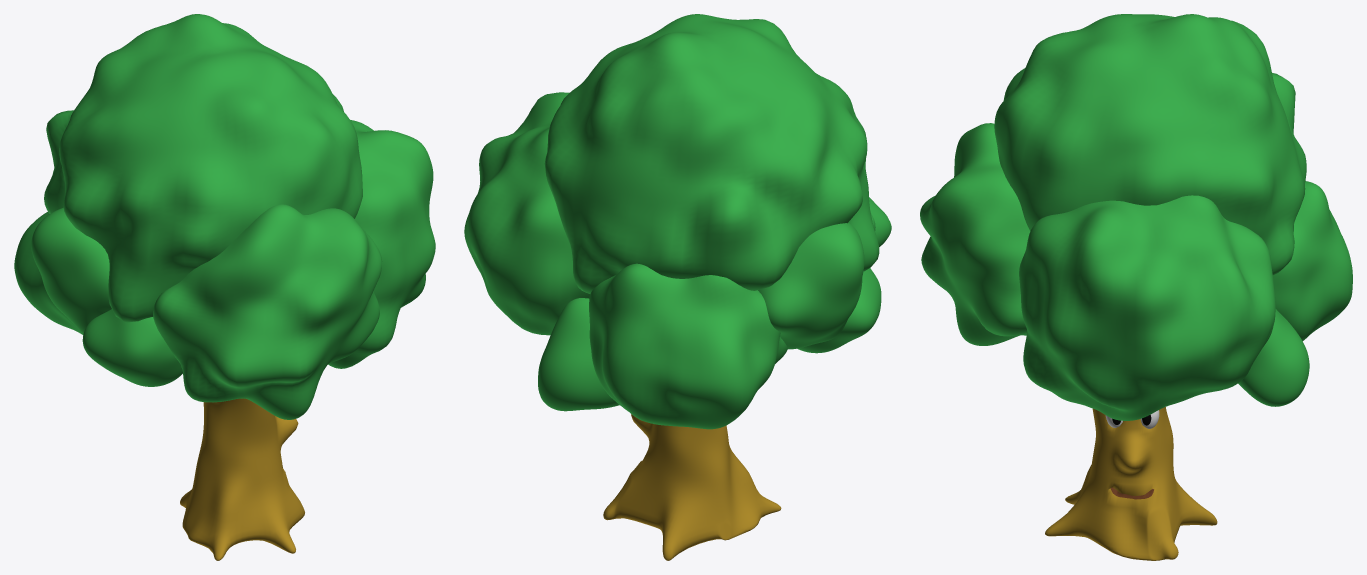
The model's file is Tree_Hub.fbx.
3 views of the same model, side by side, from view 1: azimuth 30°, elevation 25°; view 2: azimuth 150°, elevation 25°; view 3: azimuth 270°, elevation 25° (orthographic). The views are drawn at different scales.
Parts seen in each view (by area): view 1: group2, pCylinder1; view 2: group2, pCylinder1; view 3: group2, pCylinder1.
Boxes of the visible parts, left/top/right/bottom form: group2: left=14, top=14, right=435, bottom=419; pCylinder1: left=180, top=398, right=304, bottom=560; group2: left=464, top=14, right=891, bottom=429; pCylinder1: left=603, top=414, right=781, bottom=560; group2: left=920, top=14, right=1352, bottom=420; pCylinder1: left=1045, top=407, right=1217, bottom=560.
Size of the model in its own units: 19.05 by 23.81 by 18.28.
